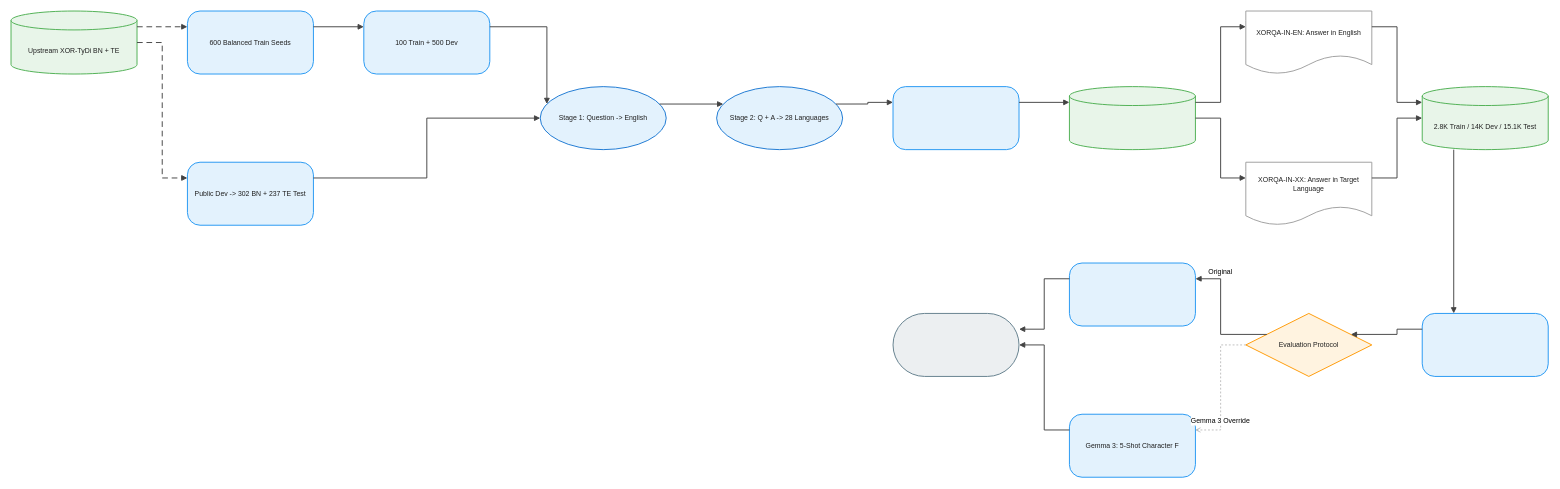
The diagram is 1560 pixels wide and 489 high, and some of its shapes have lost their labels. Here are the shapes that lost their labels. From the top down, the centre of each, then its label:
At point (955, 118): "Professional Translation Complete".
At point (1132, 118): "Shared Bilingual Records".
At point (1132, 294): "IndicGenBench: 1-Shot Token F1".
At point (955, 345): "IN-EN + IN-XX Results".
At point (1484, 345): "Target-Language Q + English Passage".
